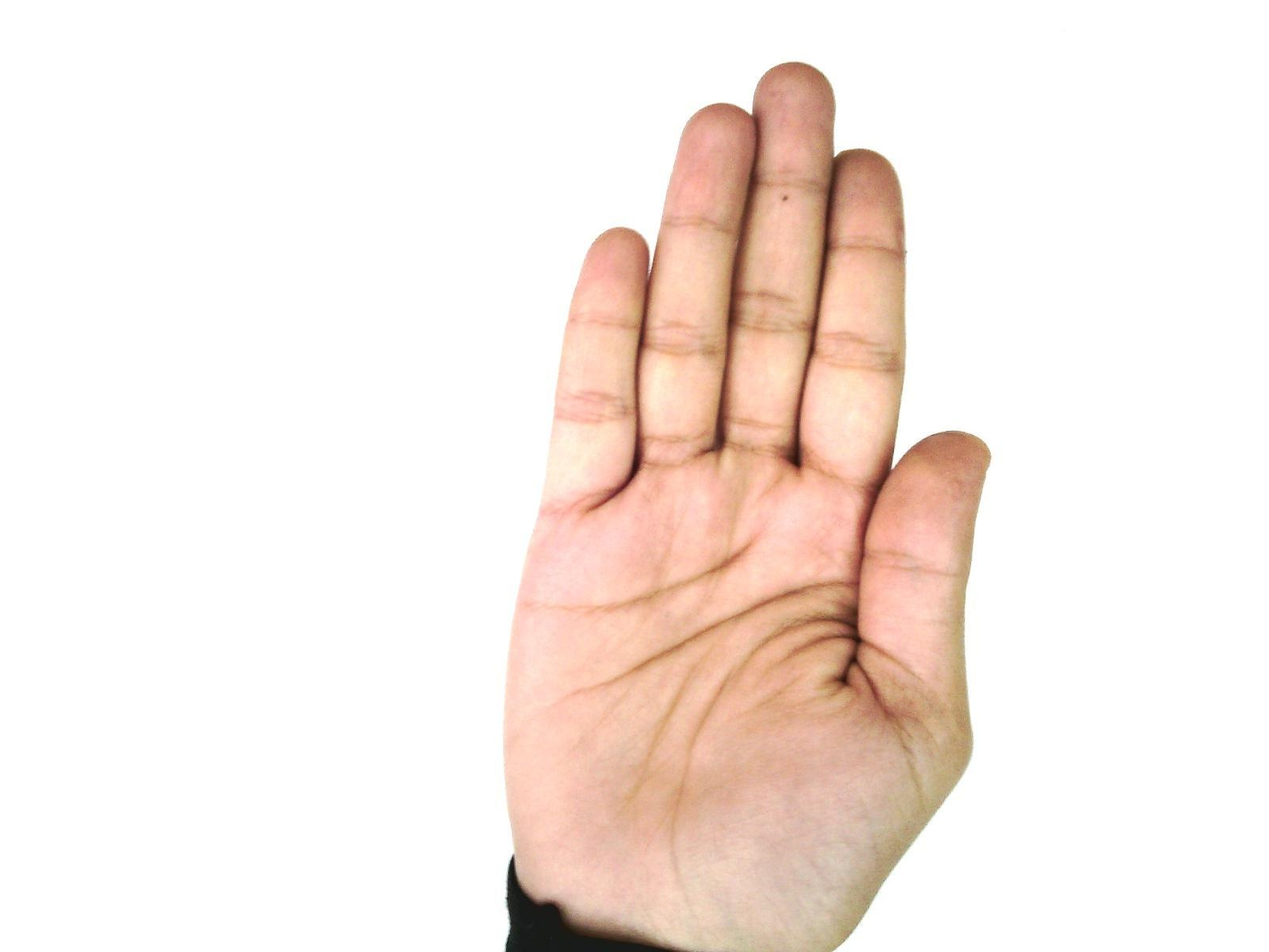open_palm: (499, 61, 994, 951)
